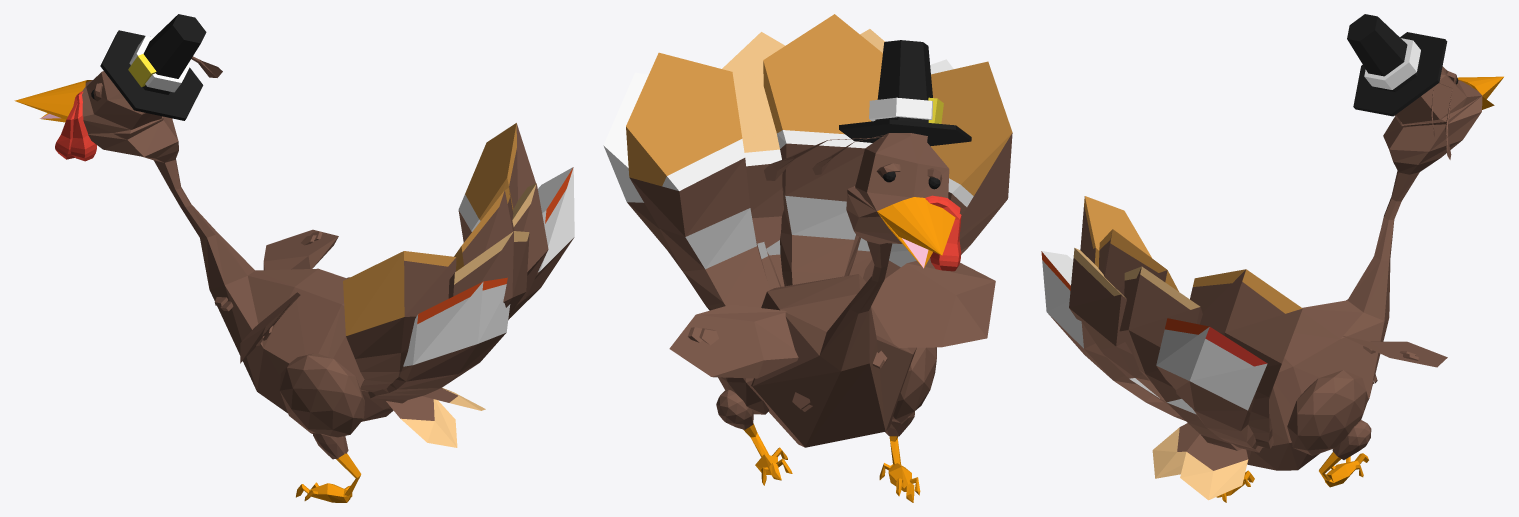
File: turkey.glb
3 views of the same model, side by side, from view 1: azimuth 30°, elevation 25°; view 2: azimuth 150°, elevation 25°; view 3: azimuth 270°, elevation 25° (orthographic). The views are drawn at different scales.
Visible parts, largest first — view 1: Node; view 2: Node; view 3: Node.
Boxes of the visible parts, left/top/right/bottom form: Node: left=14, top=14, right=574, bottom=502; Node: left=603, top=14, right=1012, bottom=502; Node: left=1041, top=14, right=1503, bottom=502.
Bounding box in the file's own units: 1.21 × 1.28 × 1.21.
